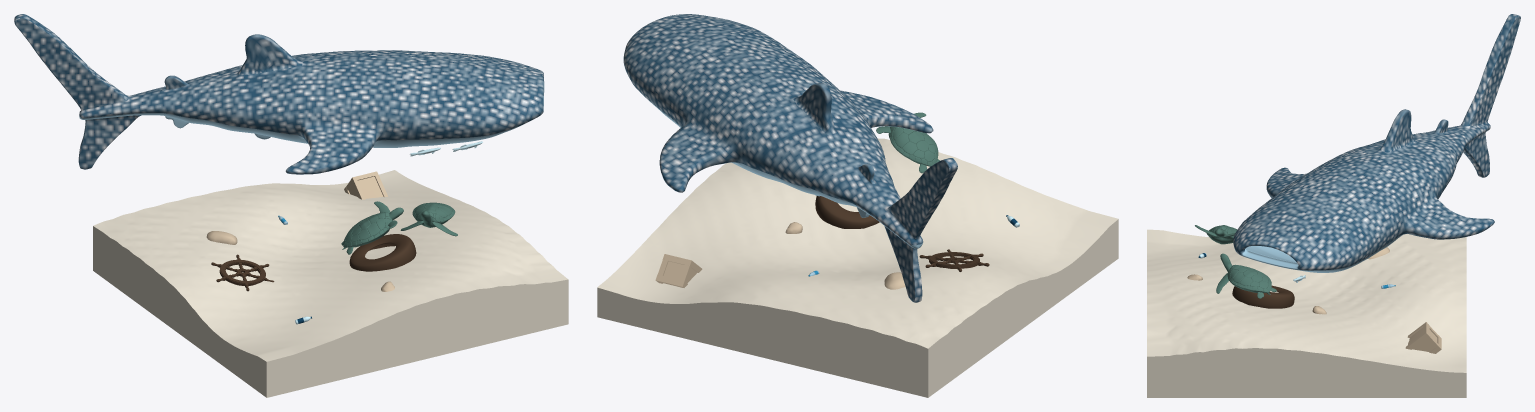
The model's file is Scene2_sketchfab.fbx.
The picture shows the model from 3 angles, left to right: view 1: azimuth 30°, elevation 25°; view 2: azimuth 150°, elevation 25°; view 3: azimuth 270°, elevation 25°; orthographic projection. The views are drawn at different scales.
Parts seen in each view (by area): view 1: sand, Asset5:pCylinder1, Tire:tire_geo, Asset4_2nd:polySurface5, Asset4:Turtle1, Asset6:Wheel, Scene2_box:box_geo; view 2: sand, Asset5:pCylinder1, Asset4_2nd:polySurface5, Tire:tire_geo, Scene2_box:box_geo, Asset6:Wheel; view 3: sand, Asset5:pCylinder1, Asset4:Turtle1, Tire:tire_geo, Scene2_box:box_geo, Asset4_2nd:polySurface5.
Boxes of the visible parts, <box> form: sand: <box>93,170,568,397</box>; Asset5:pCylinder1: <box>14,14,544,174</box>; Tire:tire_geo: <box>349,234,416,271</box>; Asset4_2nd:polySurface5: <box>341,201,403,254</box>; Asset4:Turtle1: <box>400,202,457,236</box>; Asset6:Wheel: <box>211,254,274,291</box>; Scene2_box:box_geo: <box>344,171,387,199</box>; sand: <box>597,138,1118,397</box>; Asset5:pCylinder1: <box>623,14,957,302</box>; Asset4_2nd:polySurface5: <box>876,112,939,173</box>; Tire:tire_geo: <box>815,196,879,228</box>; Scene2_box:box_geo: <box>655,254,702,287</box>; Asset6:Wheel: <box>919,249,989,271</box>; sand: <box>1147,229,1466,397</box>; Asset5:pCylinder1: <box>1233,14,1520,272</box>; Asset4:Turtle1: <box>1216,253,1276,298</box>; Tire:tire_geo: <box>1232,285,1294,308</box>; Scene2_box:box_geo: <box>1405,322,1441,353</box>; Asset4_2nd:polySurface5: <box>1195,225,1237,244</box>.
Size of the model in its own units: 116 by 66.45 by 99.06.
1 material, 1 textured.
